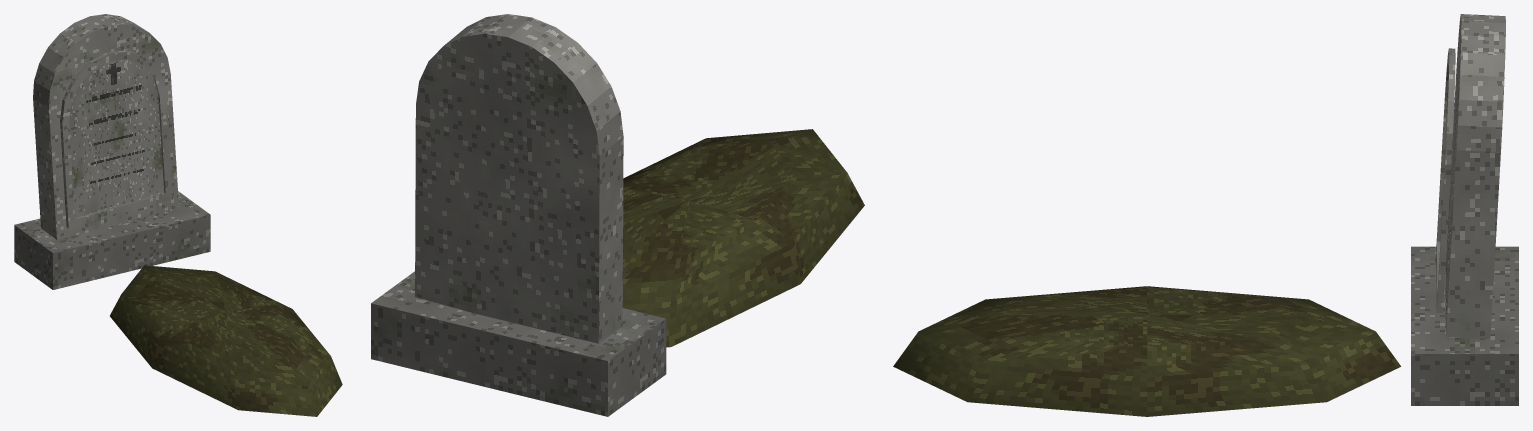
File: grave_a.glb
3 views of the same model, side by side, from view 1: azimuth 30°, elevation 25°; view 2: azimuth 150°, elevation 25°; view 3: azimuth 270°, elevation 25° (orthographic). The views are drawn at different scales.
Visible parts, largest first — view 1: stone-col, detail; view 2: stone-col, detail; view 3: detail, stone-col.
Boxes of the visible parts, x1=… form: stone-col: x1=14, y1=14, x2=210, y2=289; detail: x1=110, y1=265, x2=342, y2=416; stone-col: x1=371, y1=14, x2=666, y2=416; detail: x1=622, y1=129, x2=864, y2=347; detail: x1=893, y1=286, x2=1400, y2=416; stone-col: x1=1411, y1=14, x2=1518, y2=405.
Size of what is drawn, in the model's own units: 0.8 by 1.18 by 1.97.
Materials: 4 (4 with a texture image).
